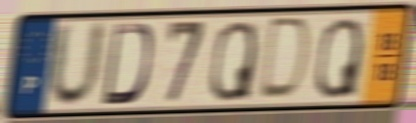7: (164, 19, 208, 107)
D: (254, 14, 314, 104), (99, 22, 155, 108)
Q: (207, 18, 259, 104), (313, 15, 365, 101)
U: (45, 18, 109, 112)
